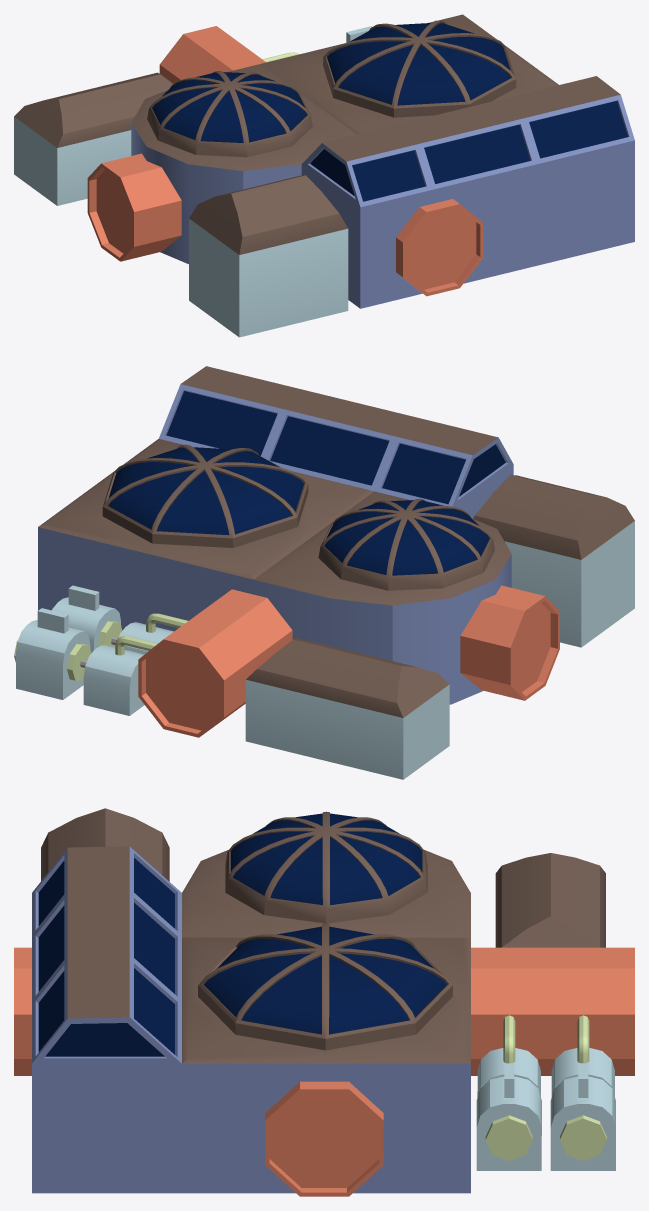
Rendered from Research Lab.fbx.
3 views of the same model, one above another, from view 1: azimuth 30°, elevation 25°; view 2: azimuth 150°, elevation 25°; view 3: azimuth 270°, elevation 25° (orthographic). The views are drawn at different scales.
Visible parts, largest first — view 1: Models.001; view 2: Models.001; view 3: Models.001.
Boxes of the visible parts, x1,y1,x2,y2 form: Models.001: (14,14,634,337); Models.001: (14,366,634,779); Models.001: (14,808,634,1196).
Size of the model in its own units: 1012 by 334 by 1012.
